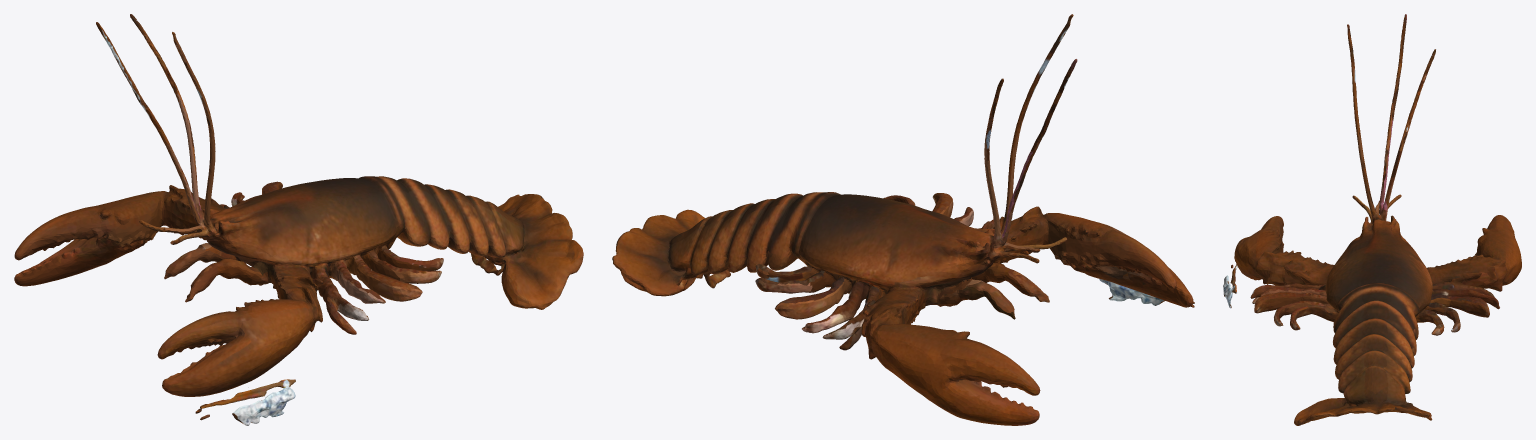
The model's file is paint_mesh_Lobster.glb.
3 renders of one model, left to right at view 1: azimuth 30°, elevation 25°; view 2: azimuth 150°, elevation 25°; view 3: azimuth 270°, elevation 25°, orthographic. The views are drawn at different scales.
Visible parts, largest first — view 1: world; view 2: world; view 3: world.
Boxes of the visible parts, bbox=[...] form: world: bbox=[14, 14, 583, 425]; world: bbox=[612, 14, 1194, 425]; world: bbox=[1223, 14, 1521, 425].
Size of the model in its own units: 1.98 by 1.38 by 1.38.
Materials: 1 (1 with a texture image).
